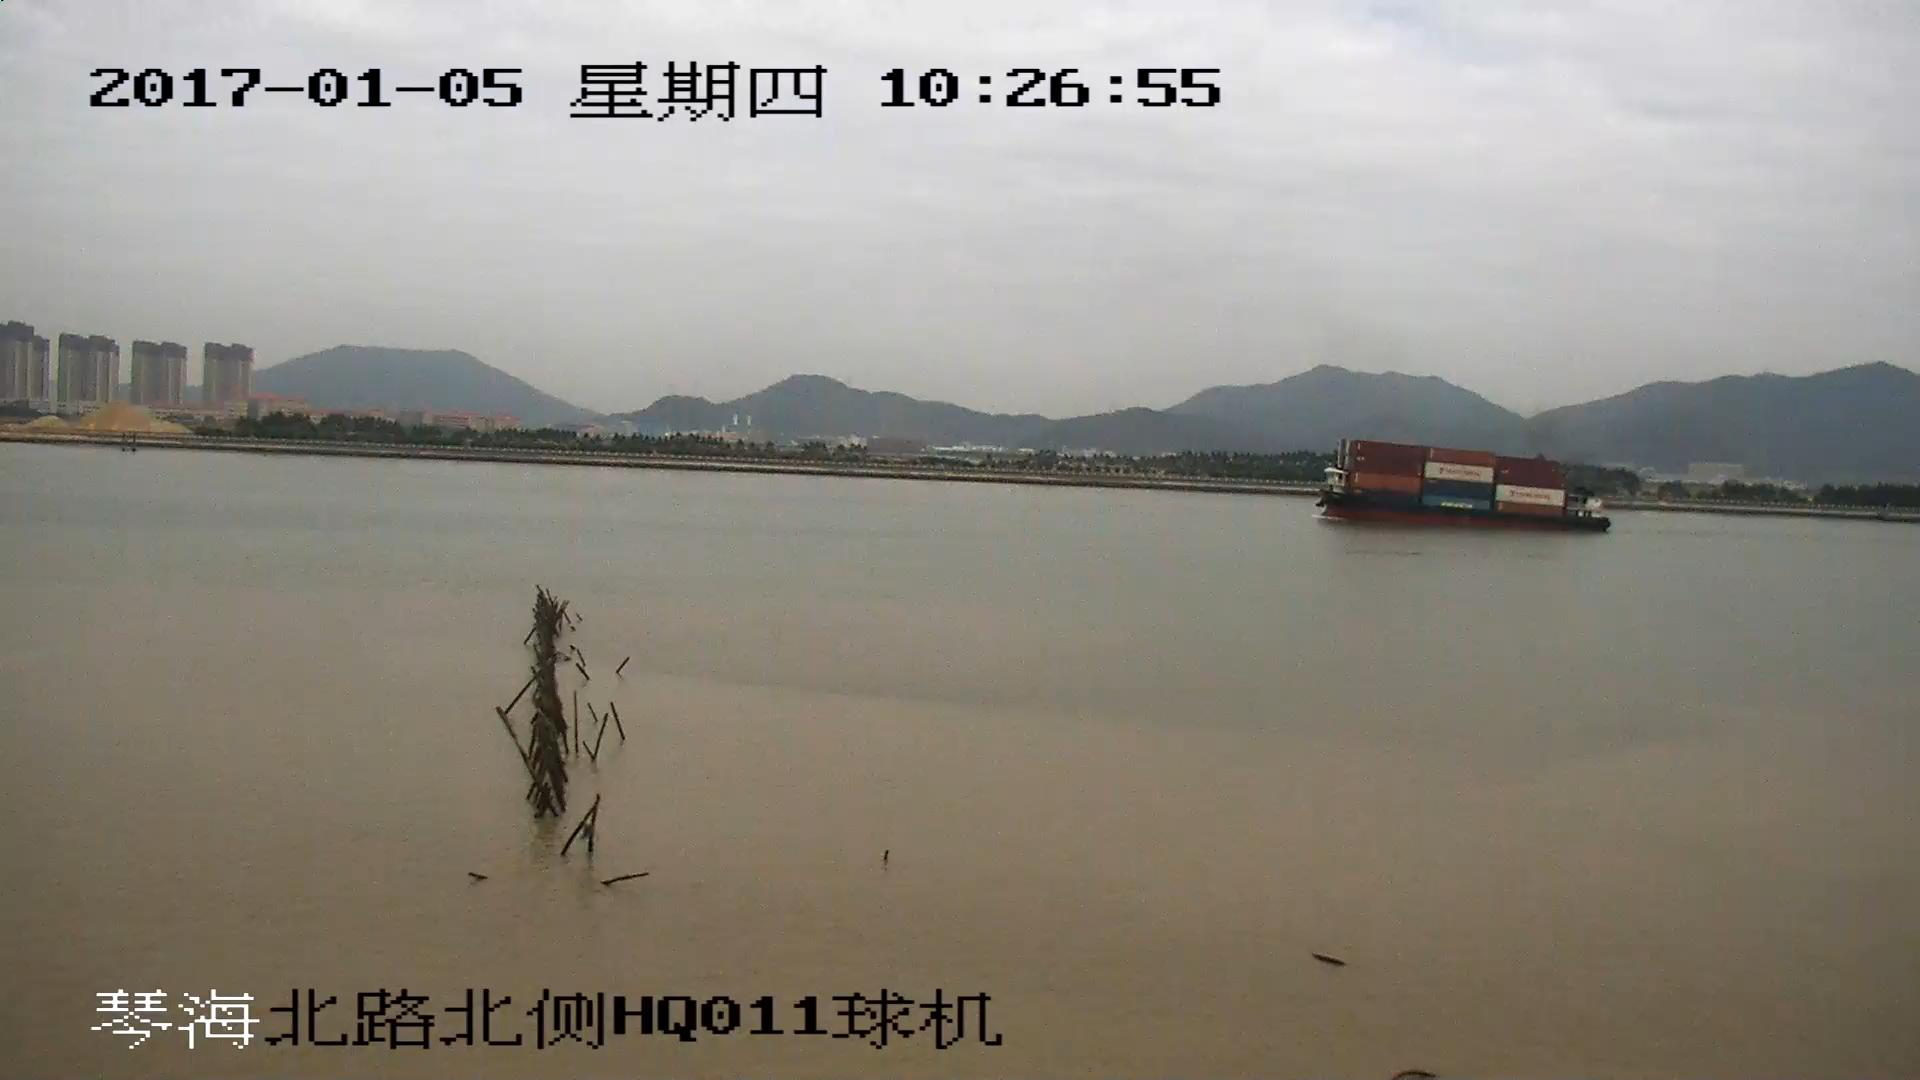container ship: (1314, 444, 1614, 536)
